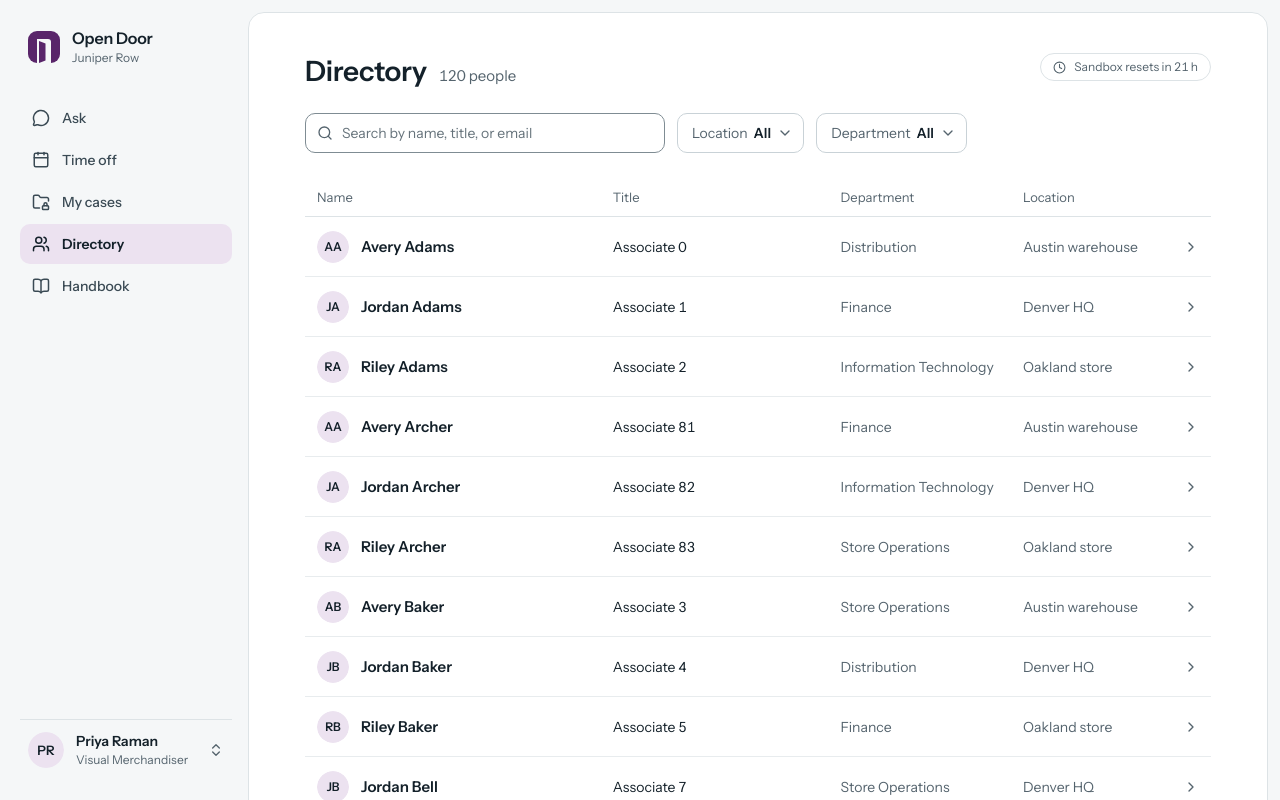
Test: the filters › shows each menu's counts from the facets, zeros included
Click the dropdown labelled "Location": (741, 133) [677,113,804,153]
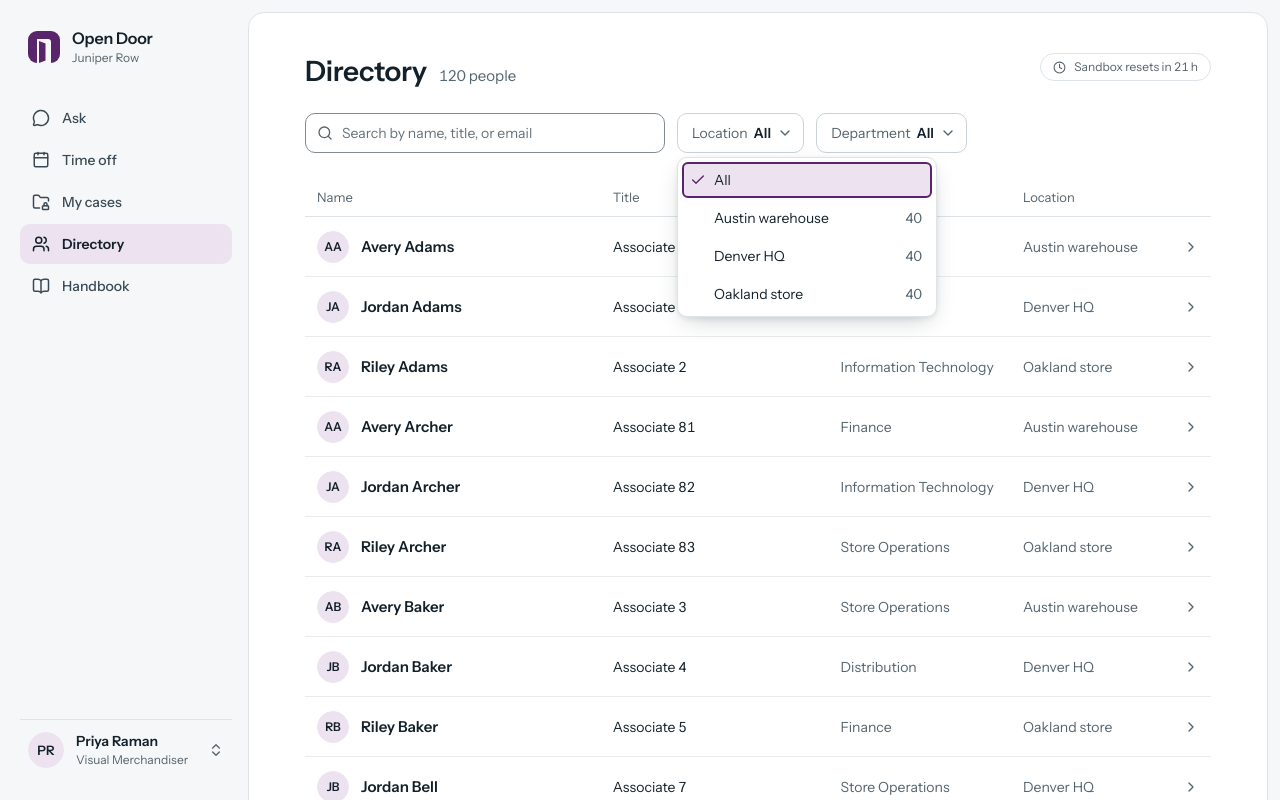
Expected: the option named "Denver HQ, 40" is shown, [714,247,922,265]
Press Escape
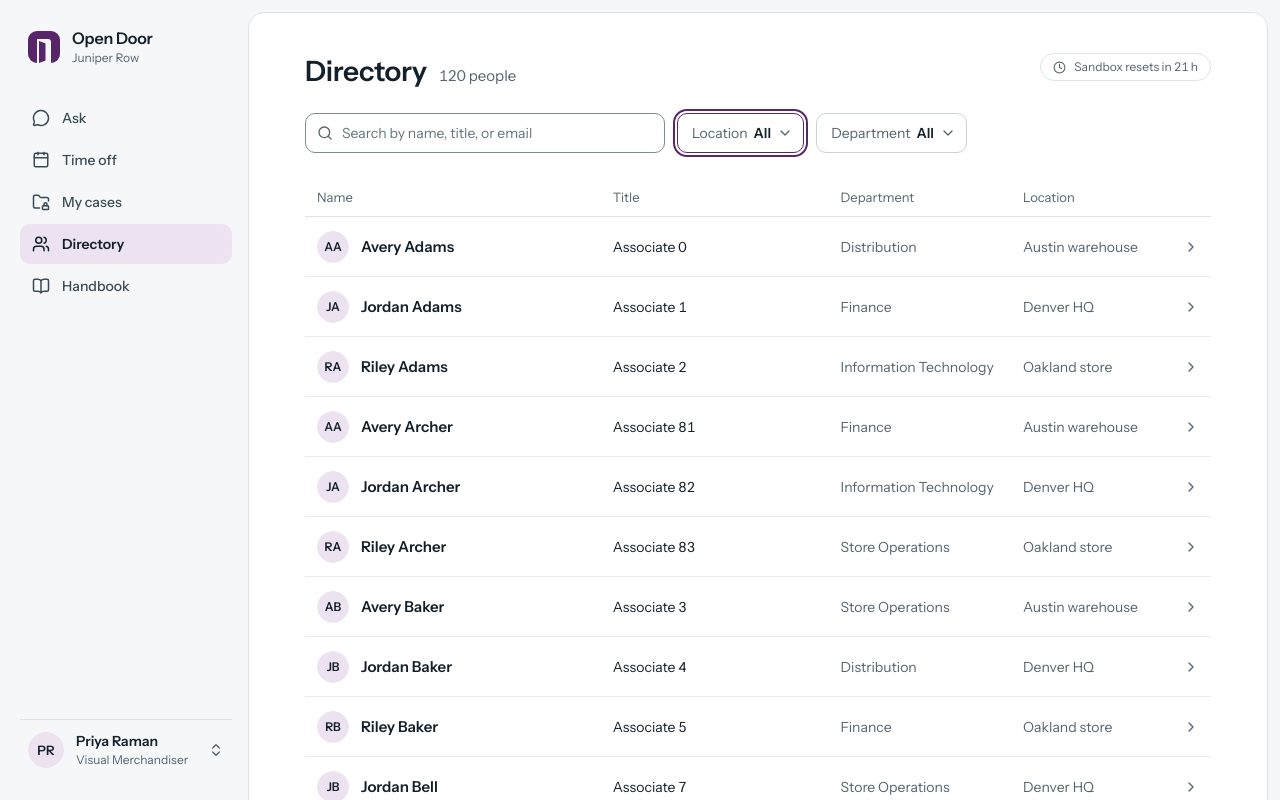
Click the dropdown labelled "Department": (892, 133) [816,113,967,153]
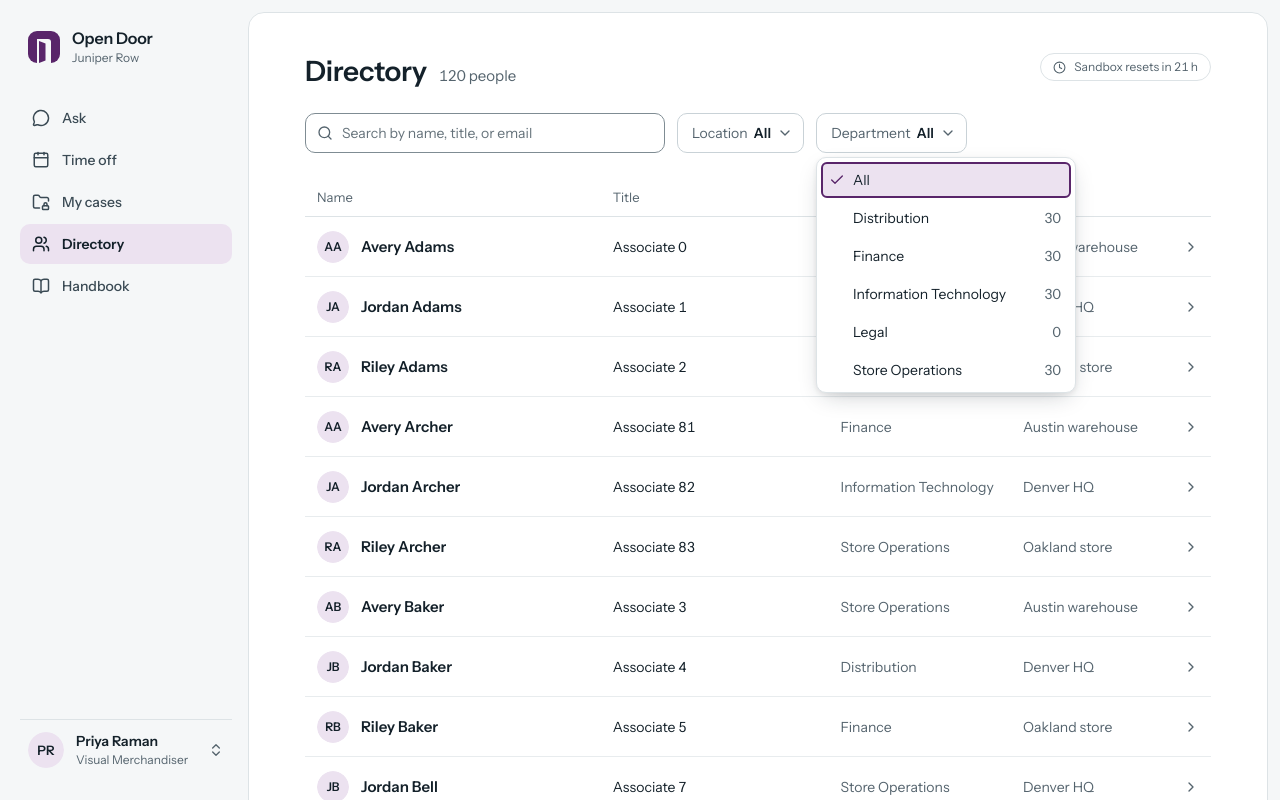
Expected: the option named "Legal, 0" is shown, [853,323,1061,341]
